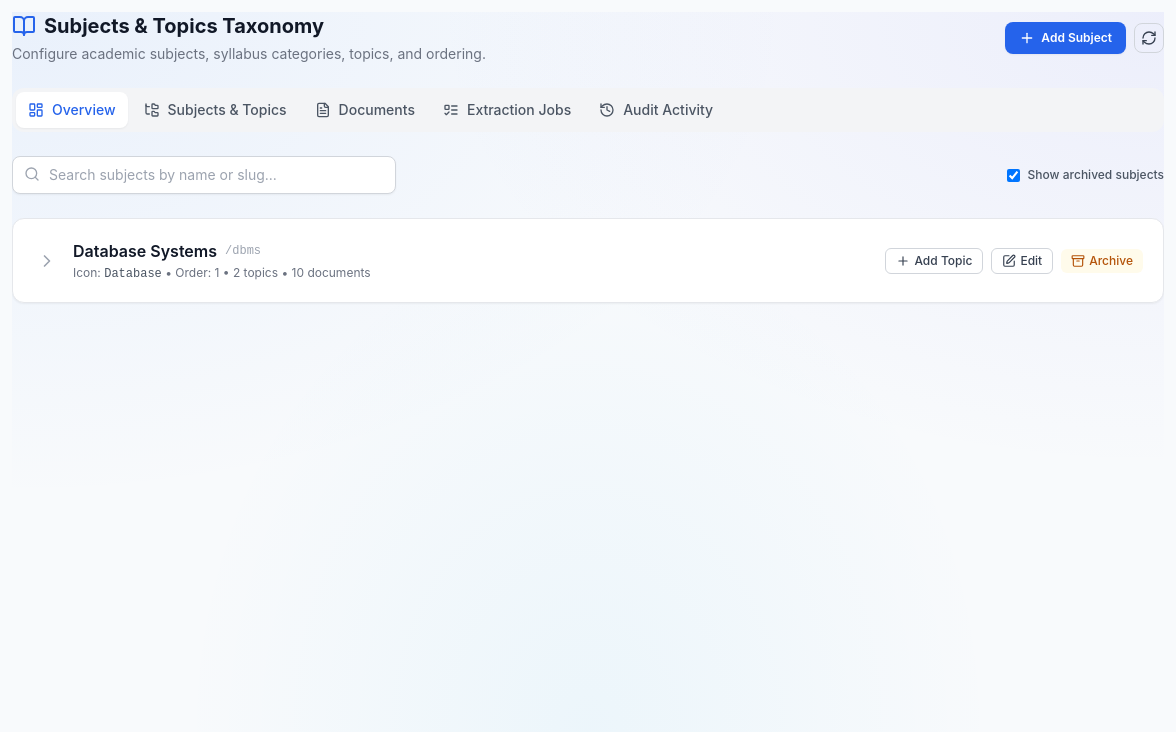
Test case: AdminSubjectsPage › renders subjects list, expands topics, and handles topic display
The width and height of the screenshot is (1176, 732).
Expected: the text "/dbms" is shown, [225, 243, 261, 259]
Expand topics by clicking on subject header
Click the text "Database Systems" at {"x": 145, "y": 251}, box [73, 239, 217, 263]
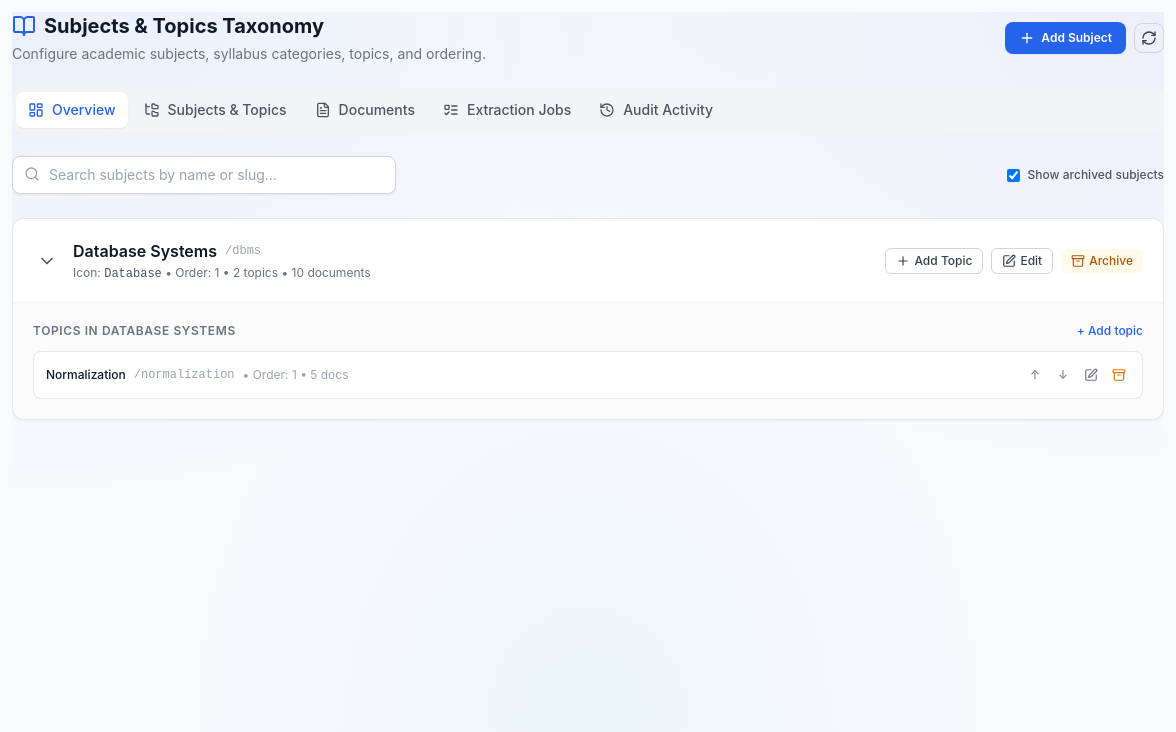
Result: the text "Normalization" is shown at [46, 367, 126, 383]
